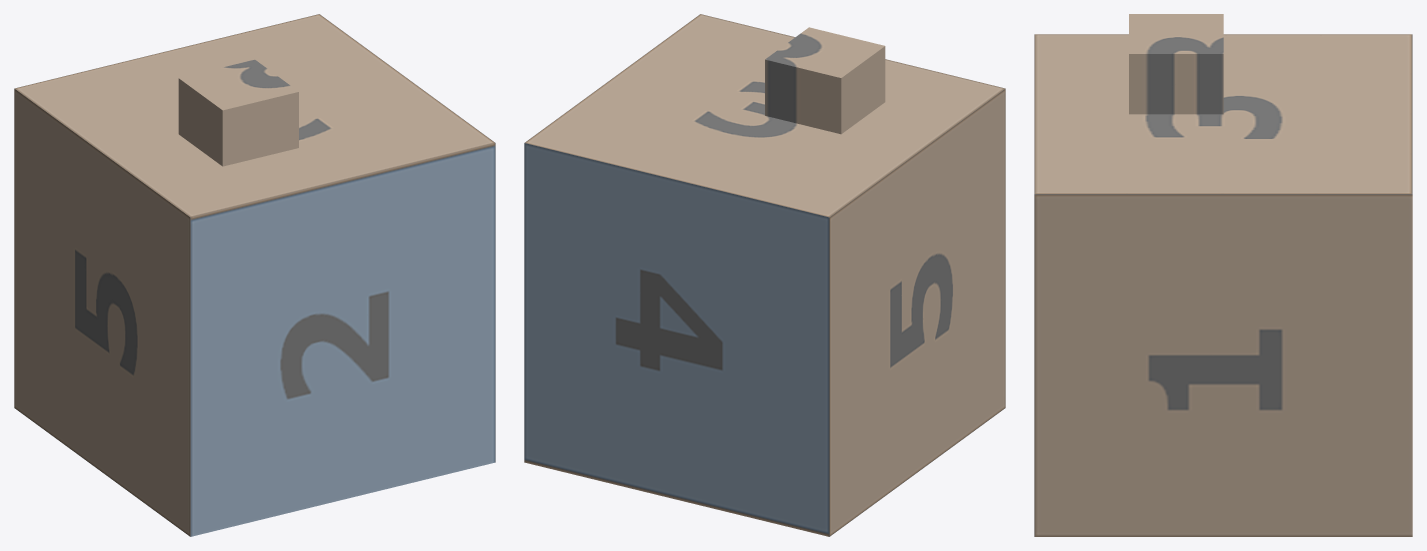
3 views of the same model, side by side, from view 1: azimuth 30°, elevation 25°; view 2: azimuth 150°, elevation 25°; view 3: azimuth 270°, elevation 25° (orthographic). The views are drawn at different scales.
Parts seen in each view (by area): view 1: Cube; view 2: Cube; view 3: Cube.
Boxes of the visible parts, box(x1,y1,x2,y2) form: Cube: box(14, 14, 495, 536); Cube: box(524, 14, 1005, 536); Cube: box(1034, 14, 1412, 536).
Size of the model in its own units: 2 by 2.35 by 2.
